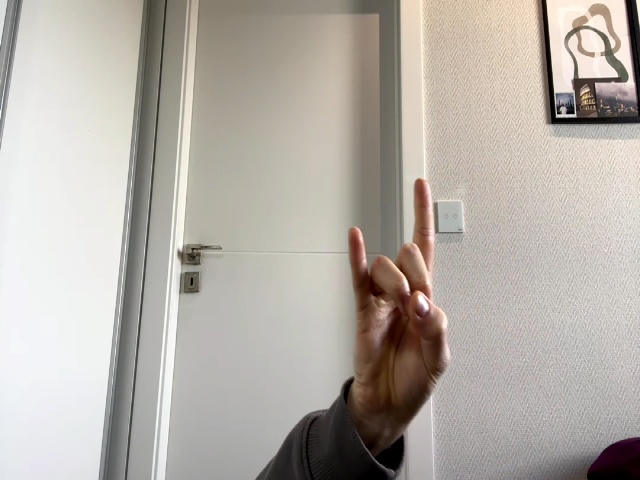Y: (349, 179, 450, 400)
